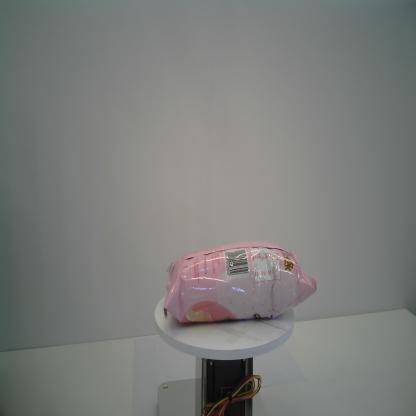Puffed Food: (162, 238, 317, 324)
